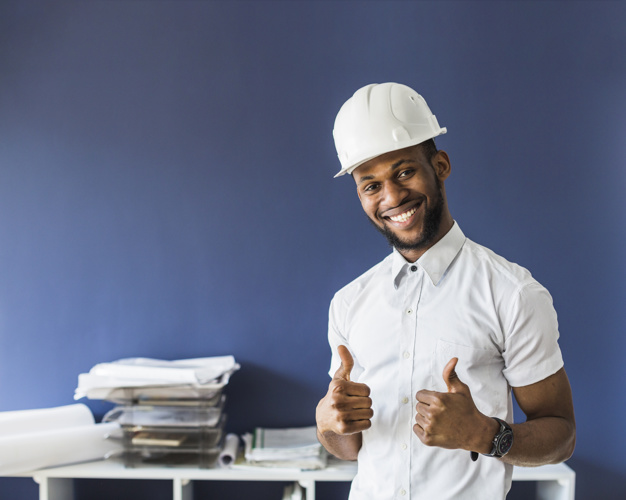thumbsup: (413, 357, 459, 447), (331, 345, 374, 434)
